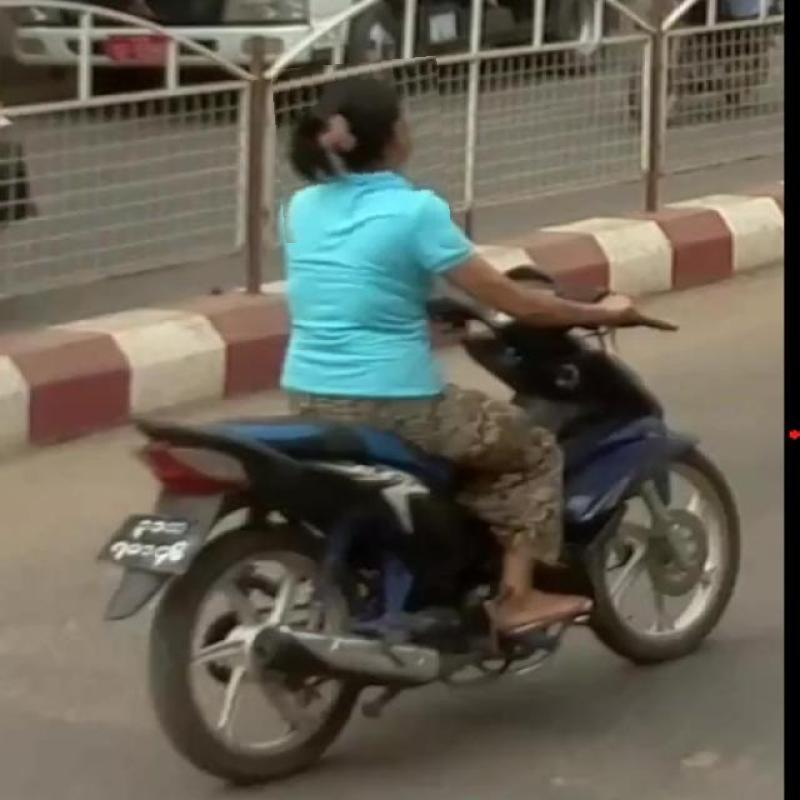nohelmet: (274, 59, 447, 240)
